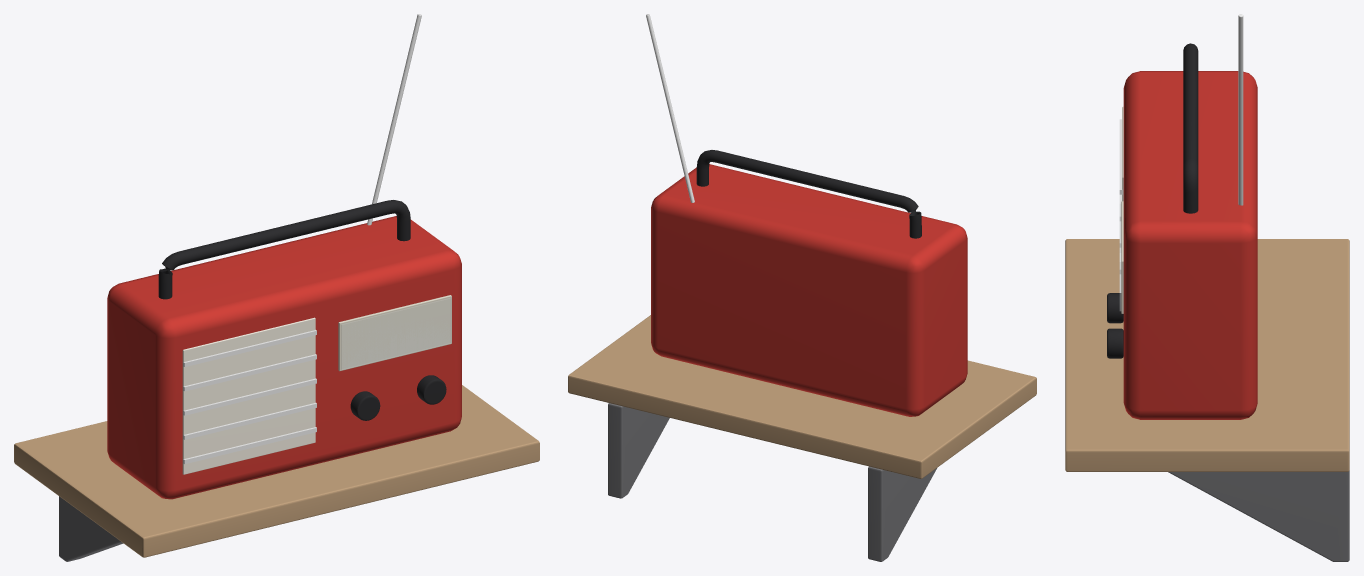
The model's file is shed_radio.glb.
The picture shows the model from 3 angles, left to right: view 1: azimuth 30°, elevation 25°; view 2: azimuth 150°, elevation 25°; view 3: azimuth 270°, elevation 25°; orthographic projection. The views are drawn at different scales.
Visible parts, largest first — view 1: SM_shed_radio; view 2: SM_shed_radio; view 3: SM_shed_radio.
Part boxes in pixels (x1=…): SM_shed_radio: x1=14, y1=14, x2=539, y2=561; SM_shed_radio: x1=568, y1=14, x2=1036, y2=561; SM_shed_radio: x1=1065, y1=14, x2=1349, y2=561.
Bounding box in the file's own units: 0.6 × 0.7254 × 0.34.
